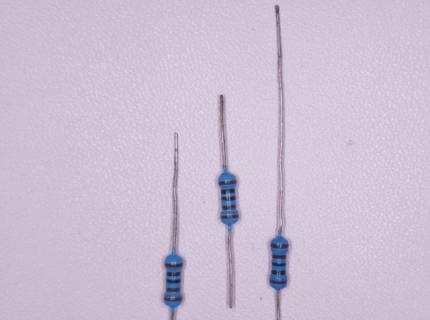Black band: (221, 196, 237, 202), (221, 189, 236, 195), (167, 271, 181, 277), (272, 261, 286, 267), (166, 279, 181, 284), (271, 270, 286, 275)
Brown band: (164, 262, 183, 269), (218, 180, 238, 186), (164, 296, 183, 302), (271, 243, 289, 249), (222, 204, 237, 211), (269, 279, 288, 284), (166, 287, 181, 293), (221, 214, 239, 219), (272, 254, 286, 260)
